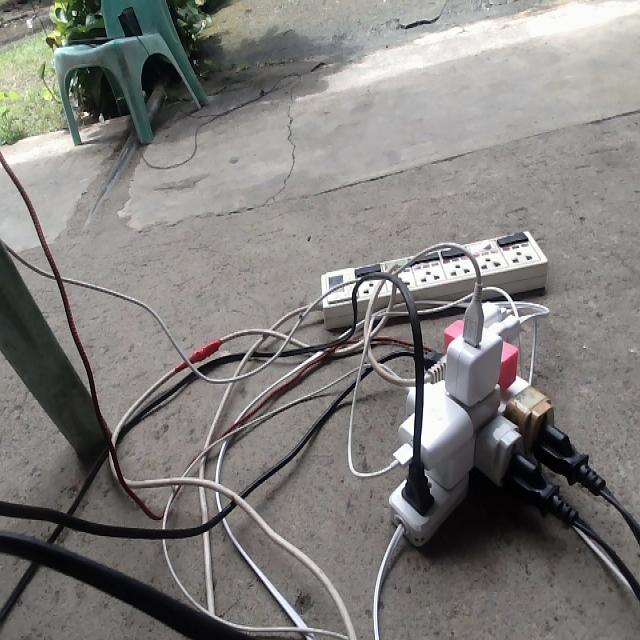-: (388, 292, 603, 547)
